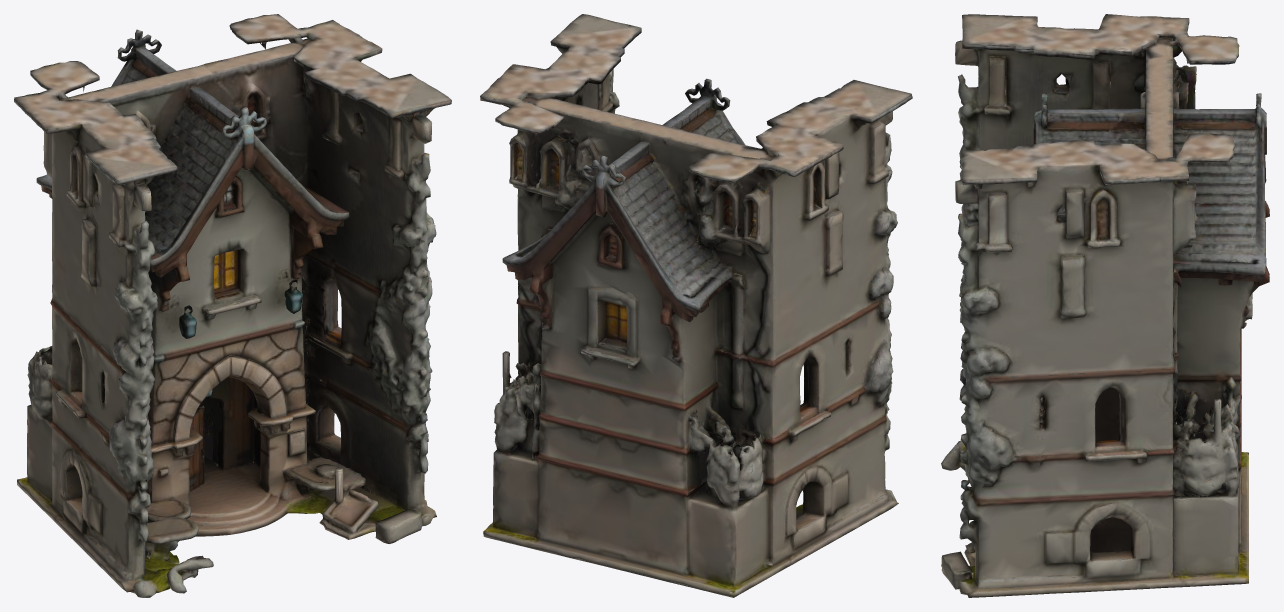
The model's file is Dwarven Building #28_final.glb.
3 renders of one model, left to right at view 1: azimuth 30°, elevation 25°; view 2: azimuth 150°, elevation 25°; view 3: azimuth 270°, elevation 25°, orthographic. The views are drawn at different scales.
Size of the model in its own units: 1.58 by 1.91 by 1.32.
1 material, 1 textured.
